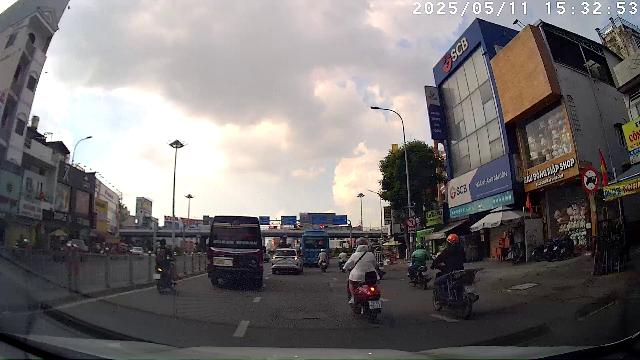123a-cam-re-trai: (406, 217, 417, 227)
